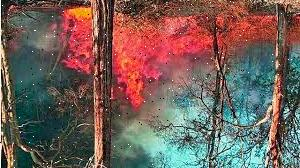fire: (62, 3, 214, 114)
